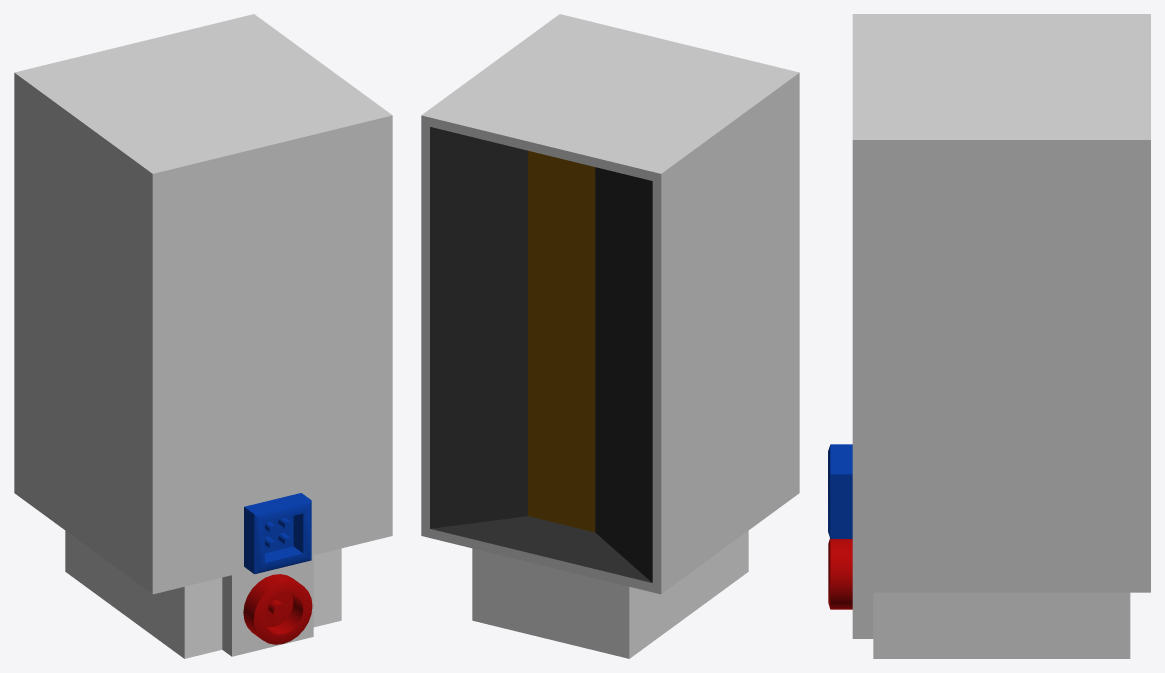
The model's file is OreScanner.gltf.
3 views of the same model, side by side, from view 1: azimuth 30°, elevation 25°; view 2: azimuth 150°, elevation 25°; view 3: azimuth 270°, elevation 25° (orthographic). The views are drawn at different scales.
Parts seen in each view (by area): view 1: base; view 2: base; view 3: base.
Part boxes in pixels (x1,y1,x2,y2): base: (14, 14, 392, 658); base: (421, 14, 799, 658); base: (828, 14, 1150, 658).
Bounding box in the file's own units: 0.25 × 0.5 × 0.2706.
